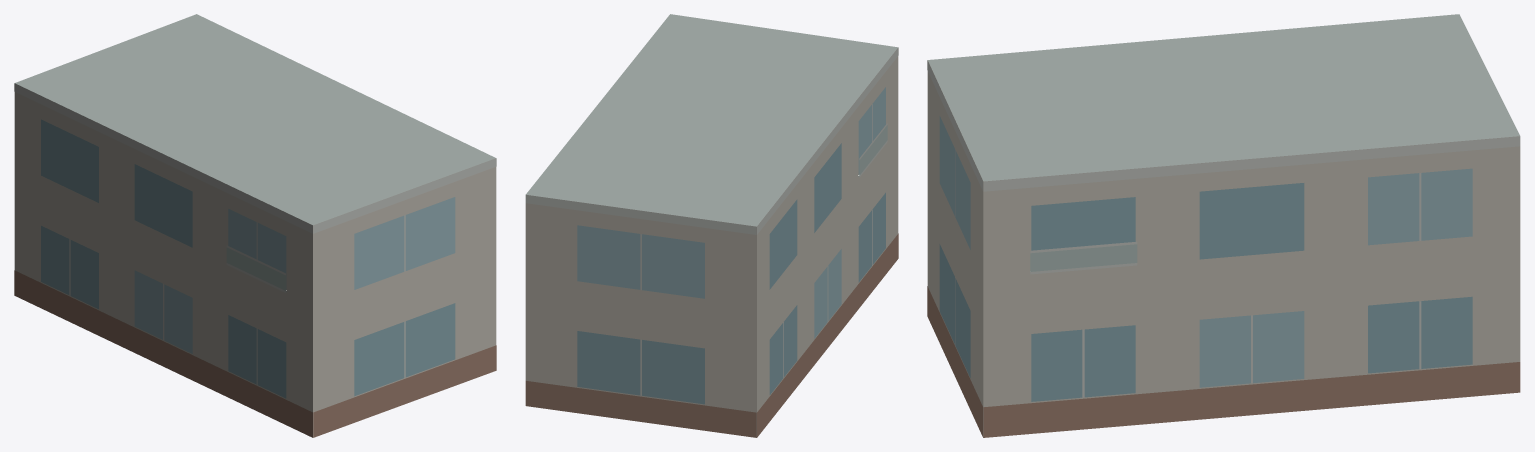
Rendered from survey-upis-32708061.glb.
The picture shows the model from 3 angles, left to right: view 1: azimuth 30°, elevation 25°; view 2: azimuth 150°, elevation 25°; view 3: azimuth 270°, elevation 25°; orthographic projection. The views are drawn at different scales.
Visible parts, largest first — view 1: survey-upis-32708061.tmp; view 2: survey-upis-32708061.tmp; view 3: survey-upis-32708061.tmp.
Part boxes in pixels (box(x1,y1,x2,y2)): survey-upis-32708061.tmp: box(14, 14, 496, 437); survey-upis-32708061.tmp: box(525, 14, 898, 437); survey-upis-32708061.tmp: box(927, 14, 1520, 437).
Size of the model in its own units: 8.56 by 6.1 by 12.8.
